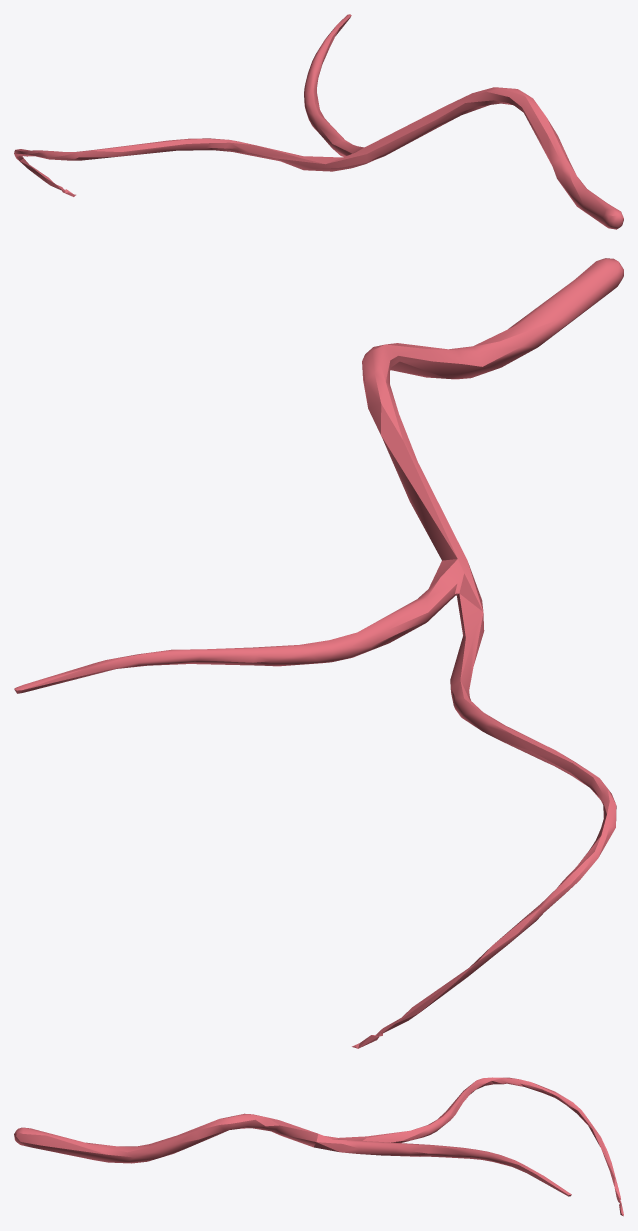
Rendered from fma50578_fj5107.glb.
The picture shows the model from 3 angles, top to bottom: view 1: azimuth 30°, elevation 25°; view 2: azimuth 150°, elevation 25°; view 3: azimuth 270°, elevation 25°; orthographic projection. The views are drawn at different scales.
Parts seen in each view (by area): view 1: FMA50578_FJ5107; view 2: FMA50578_FJ5107; view 3: FMA50578_FJ5107.
Part boxes in pixels (x1,y1,x2,y2): FMA50578_FJ5107: [14, 14, 623, 229]; FMA50578_FJ5107: [14, 258, 623, 1048]; FMA50578_FJ5107: [14, 1077, 623, 1216].
Size of the model in its own units: 0.0312 by 0.019 by 0.0556.
